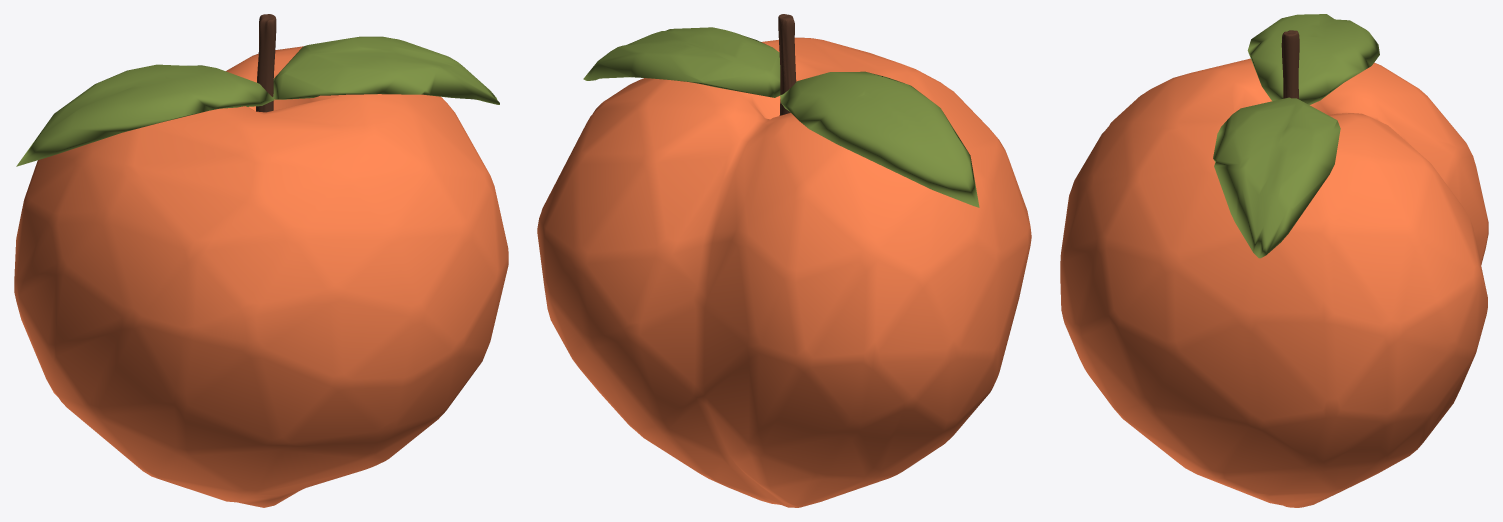
File: peach.glb
The picture shows the model from 3 angles, left to right: view 1: azimuth 30°, elevation 25°; view 2: azimuth 150°, elevation 25°; view 3: azimuth 270°, elevation 25°; orthographic projection. The views are drawn at different scales.
Visible parts, largest first — view 1: Peach, Leaves, stem; view 2: Peach, Leaves, stem; view 3: Peach, Leaves, stem.
Part boxes in pixels (left/top/right/bottom): Peach: left=14, top=46, right=508, bottom=507; Leaves: left=16, top=36, right=499, bottom=166; stem: left=256, top=14, right=276, bottom=112; Peach: left=537, top=37, right=1031, bottom=507; Leaves: left=583, top=27, right=979, bottom=207; stem: left=778, top=14, right=796, bottom=115; Peach: left=1060, top=58, right=1488, bottom=507; Leaves: left=1213, top=14, right=1379, bottom=258; stem: left=1281, top=30, right=1299, bottom=99.
Size of the model in its own units: 219 by 232 by 191.
